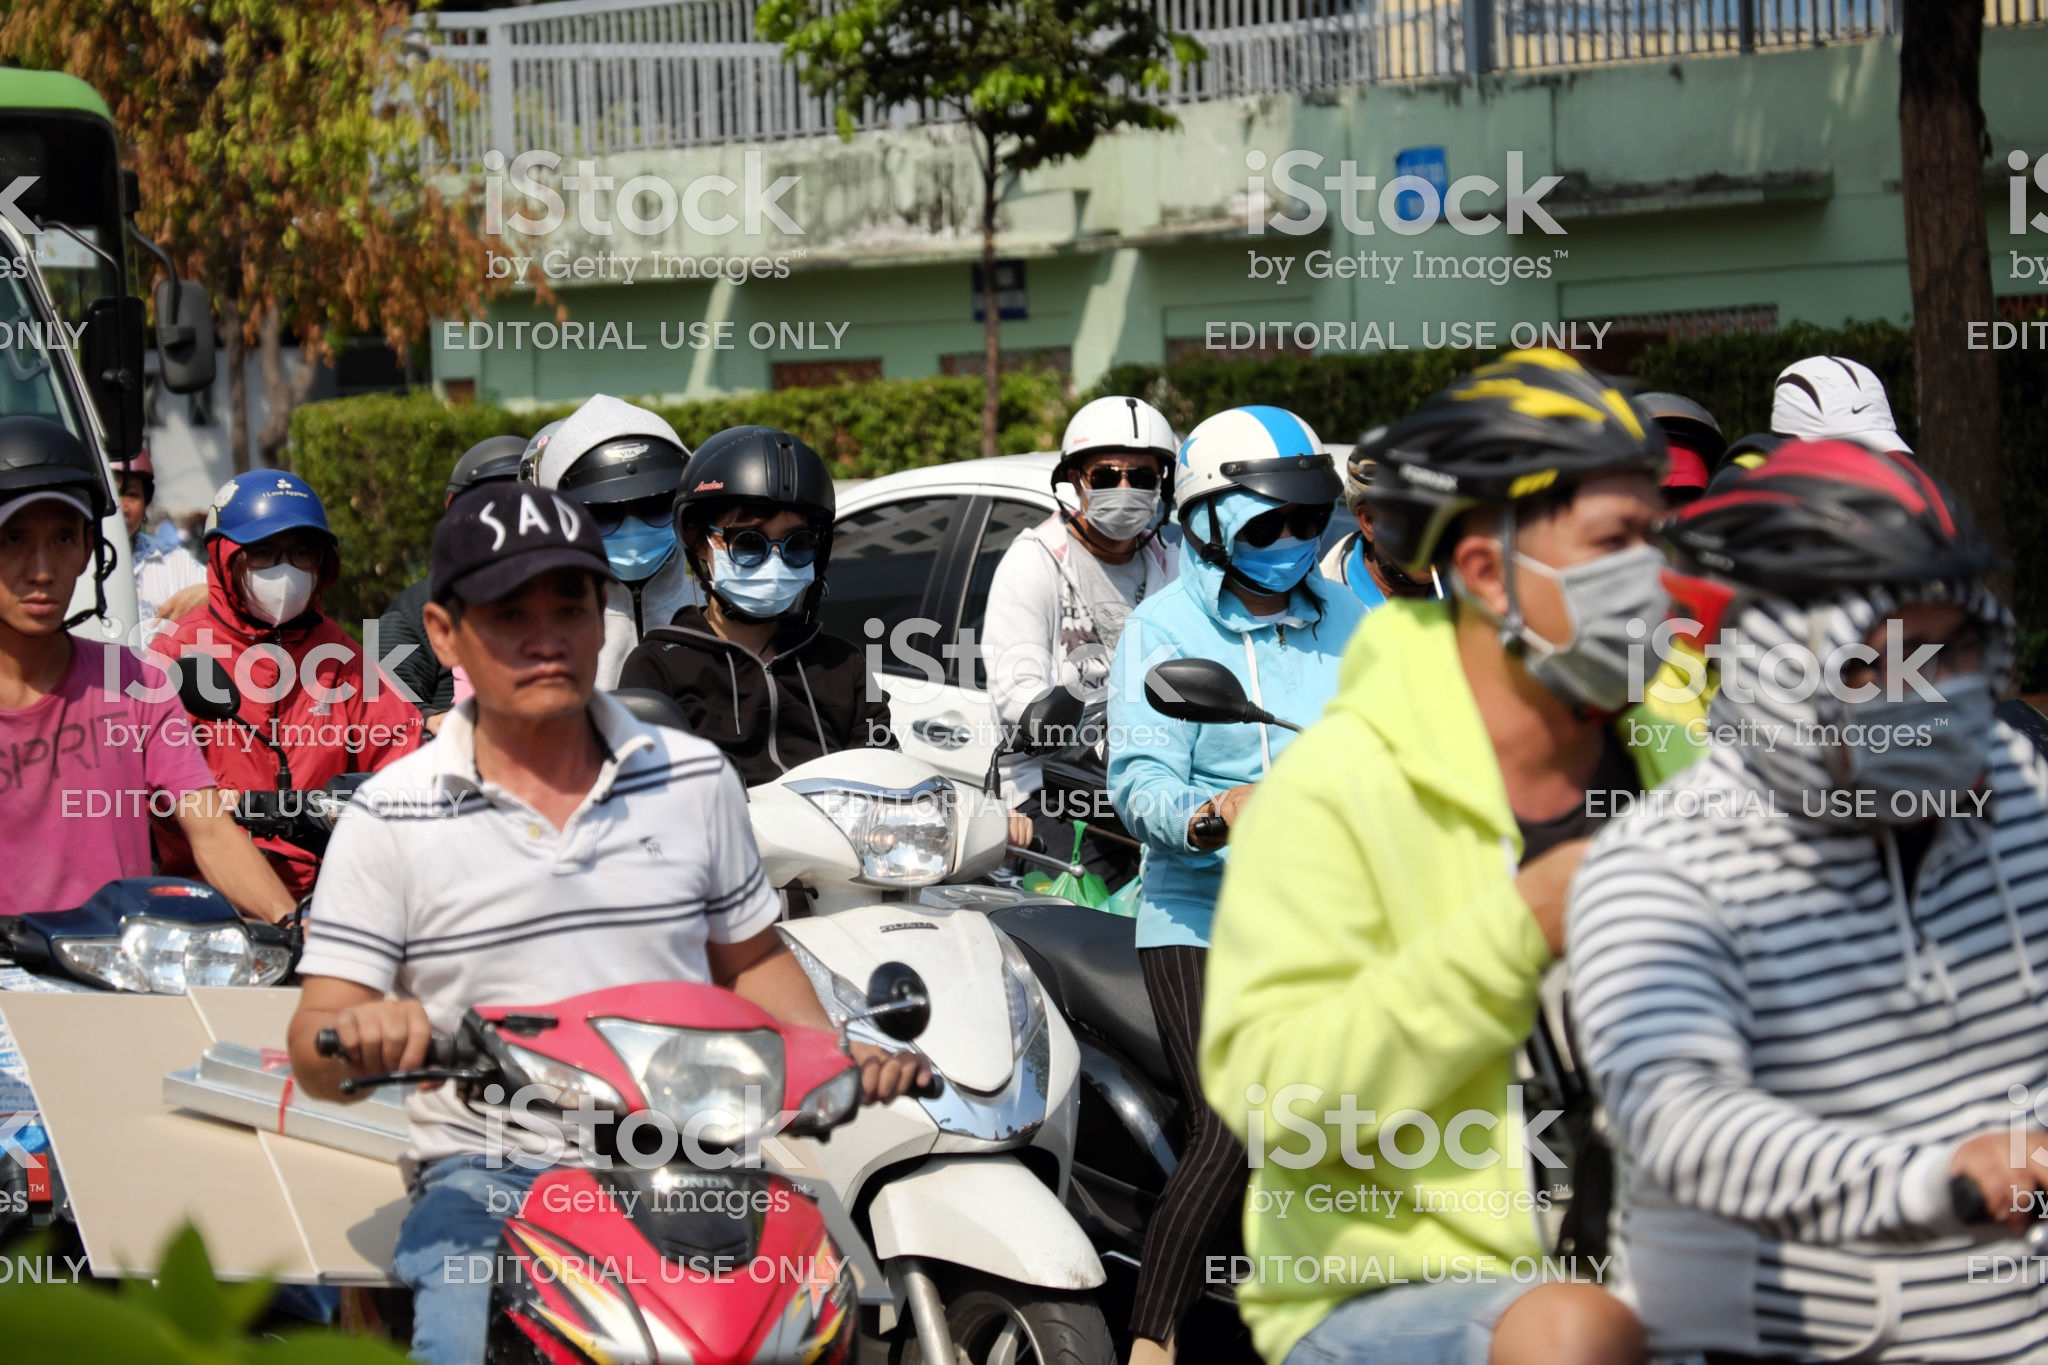helmet: (1675, 440, 2002, 606), (1357, 367, 1675, 538), (1169, 407, 1340, 513), (522, 414, 688, 513), (684, 433, 837, 532), (184, 469, 352, 545), (1042, 385, 1185, 471)
